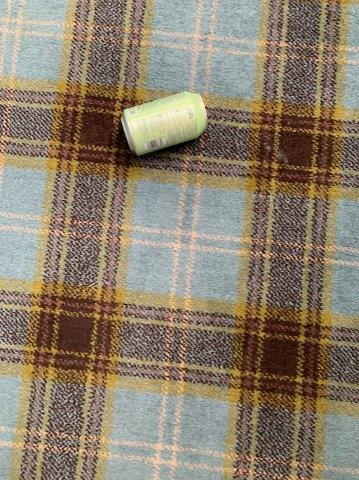kaleng: (121, 92, 208, 156)
